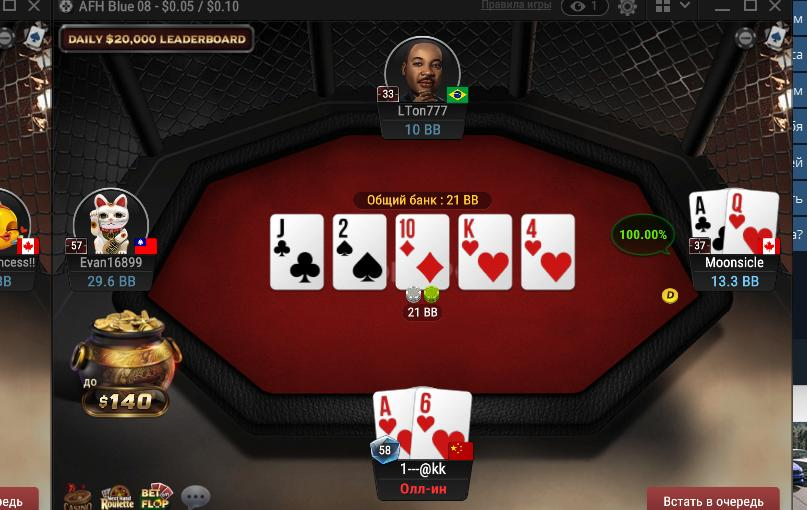10d: (395, 215, 449, 288)
2s: (333, 215, 387, 289)
4h: (521, 214, 575, 289)
6h: (413, 388, 471, 457)
Ac: (689, 190, 726, 255)
Ah: (373, 389, 413, 458)
Jc: (269, 215, 323, 288)
Kh: (459, 215, 511, 288)
Qh: (727, 187, 779, 255)
